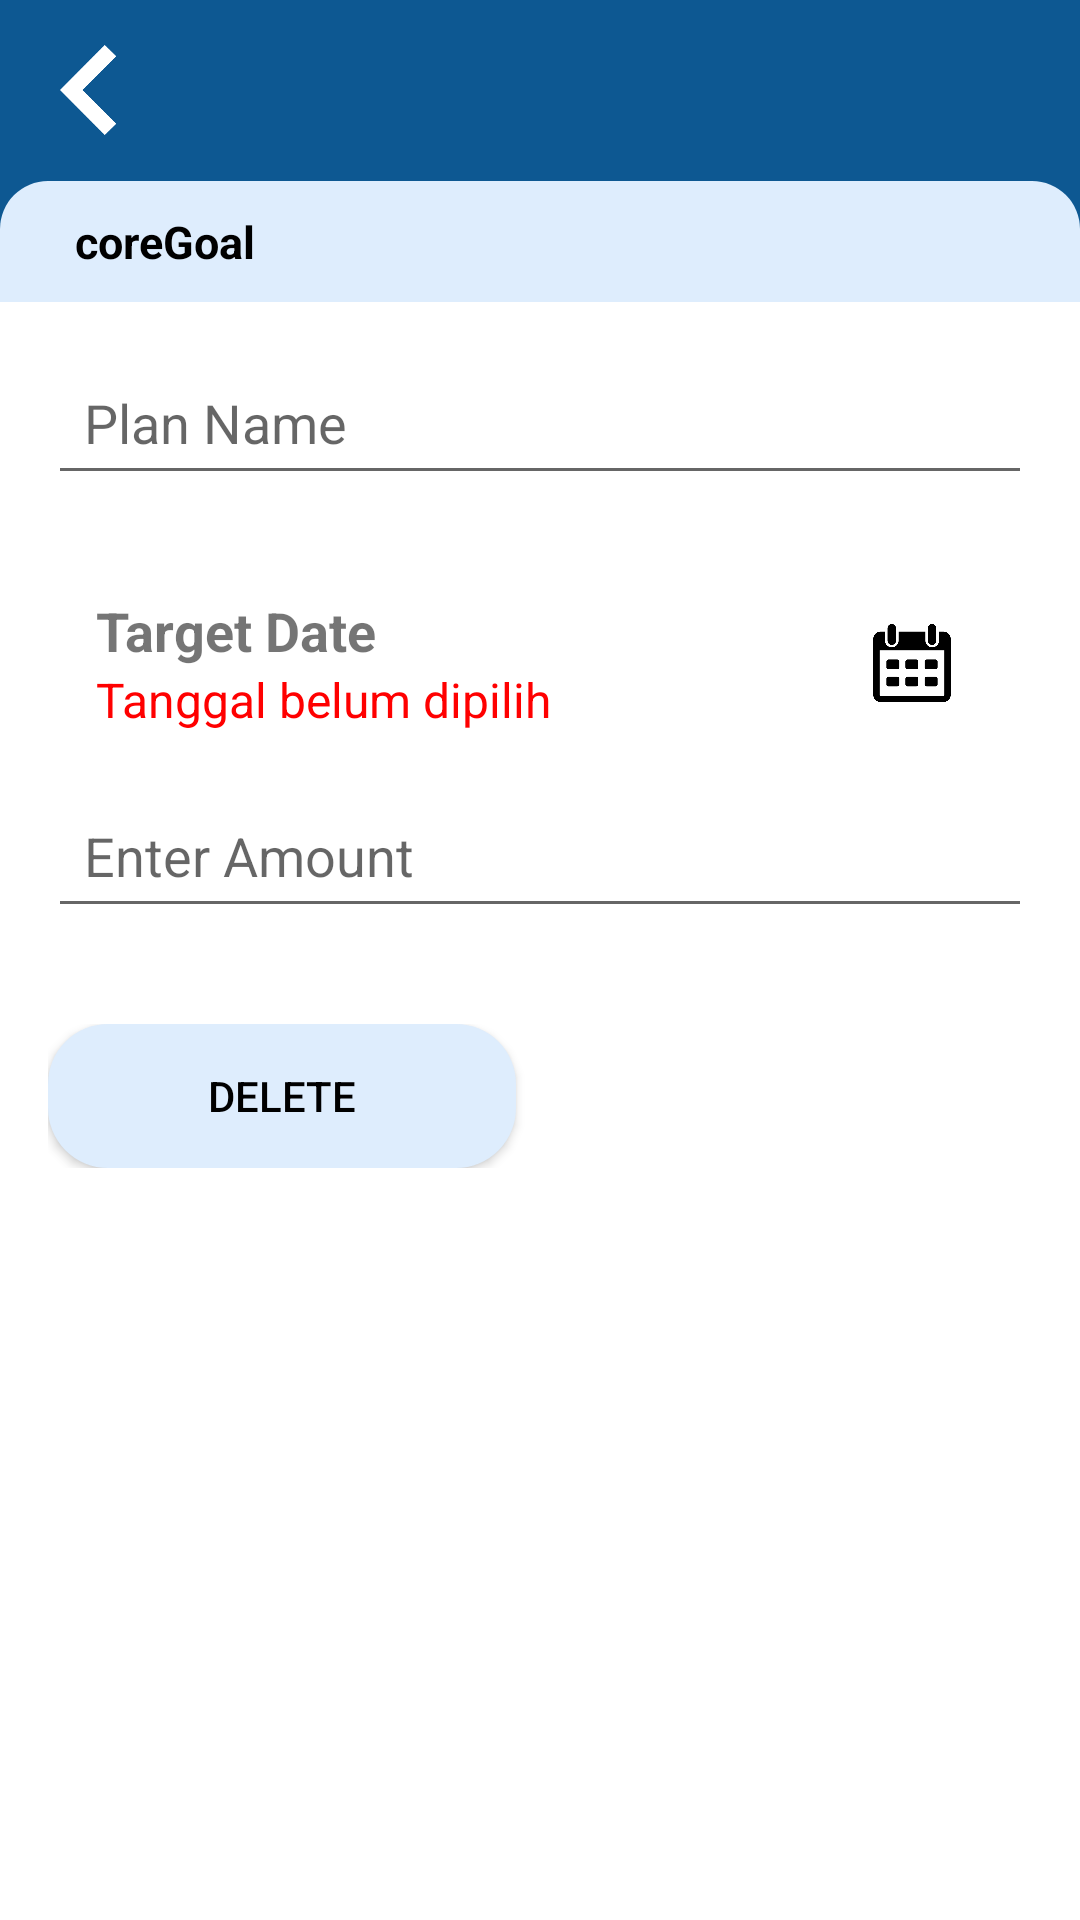

Icon bounding boxes for this 1080×1920 phone screenshot, format detection(x1, y1, x2, y2):
Pilih Tanggal: detection(873, 624, 951, 702)
